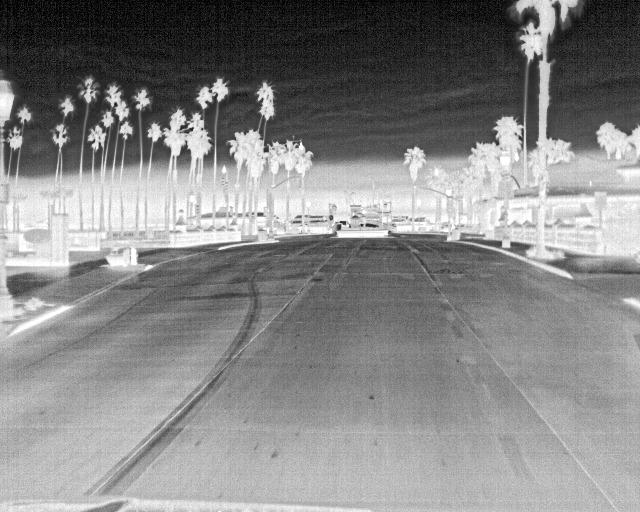car: (340, 221, 348, 227)
light: (447, 196, 453, 213), (296, 173, 302, 187), (269, 202, 274, 213), (195, 204, 200, 214), (221, 177, 225, 187), (264, 206, 268, 216), (225, 181, 228, 189), (413, 186, 416, 194), (230, 207, 233, 214)
sign: (593, 191, 607, 209), (500, 180, 512, 192), (497, 192, 514, 199), (329, 215, 333, 220), (397, 216, 402, 220)
